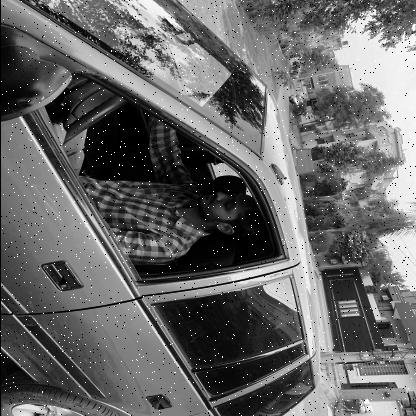no_seatbelt: (100, 176, 256, 246)
